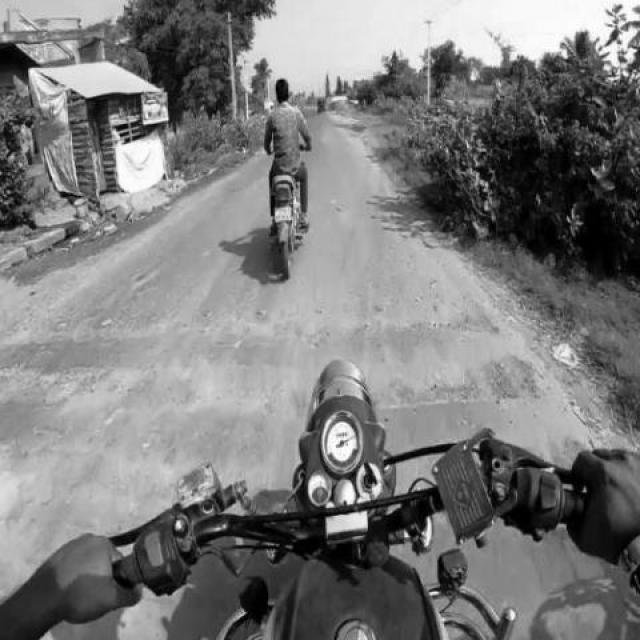Unmarked Bump: (1, 327, 316, 397), (2, 393, 302, 458), (2, 472, 162, 536), (382, 395, 568, 450), (364, 316, 532, 374), (466, 530, 568, 576)
